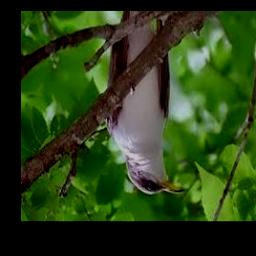Cuckoo: (105, 11, 183, 196)
